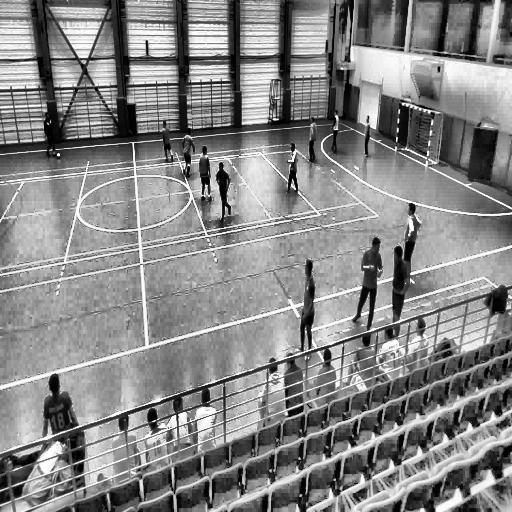ball: (55, 151, 60, 159)
player: (352, 236, 382, 328), (391, 245, 411, 334), (298, 258, 316, 354), (403, 202, 420, 270), (216, 160, 231, 225), (181, 126, 196, 179), (285, 142, 300, 195), (199, 145, 211, 203), (43, 111, 56, 159), (162, 118, 175, 164), (308, 115, 318, 165), (330, 109, 340, 156), (363, 115, 371, 160)
